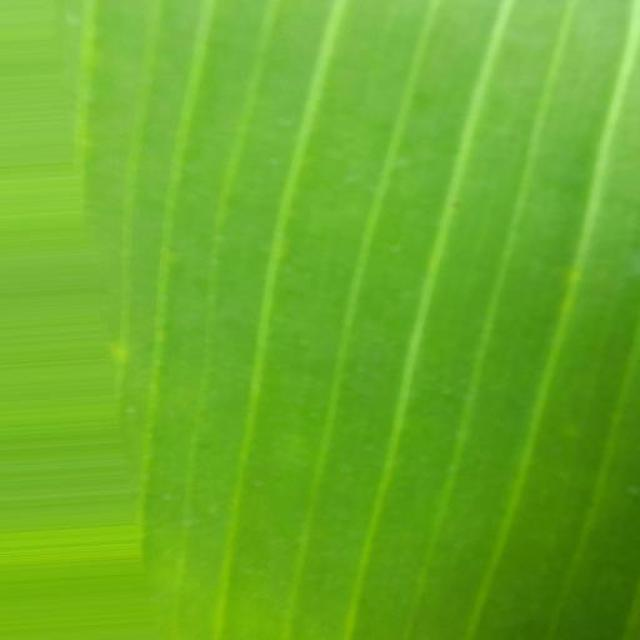Black_leaf_spot: (69, 0, 640, 627)
